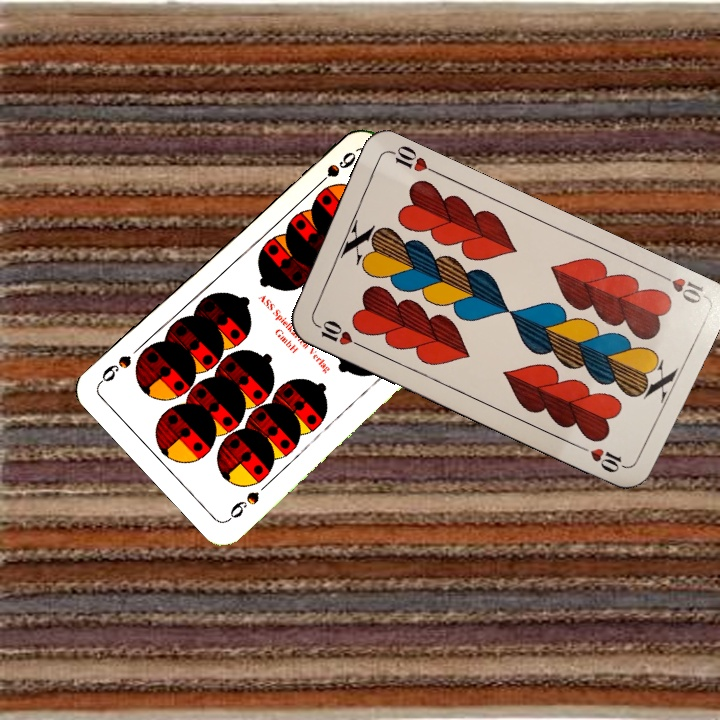H10: (651, 267, 707, 306), (309, 316, 364, 350)
S9: (310, 147, 359, 192), (223, 487, 262, 524)
